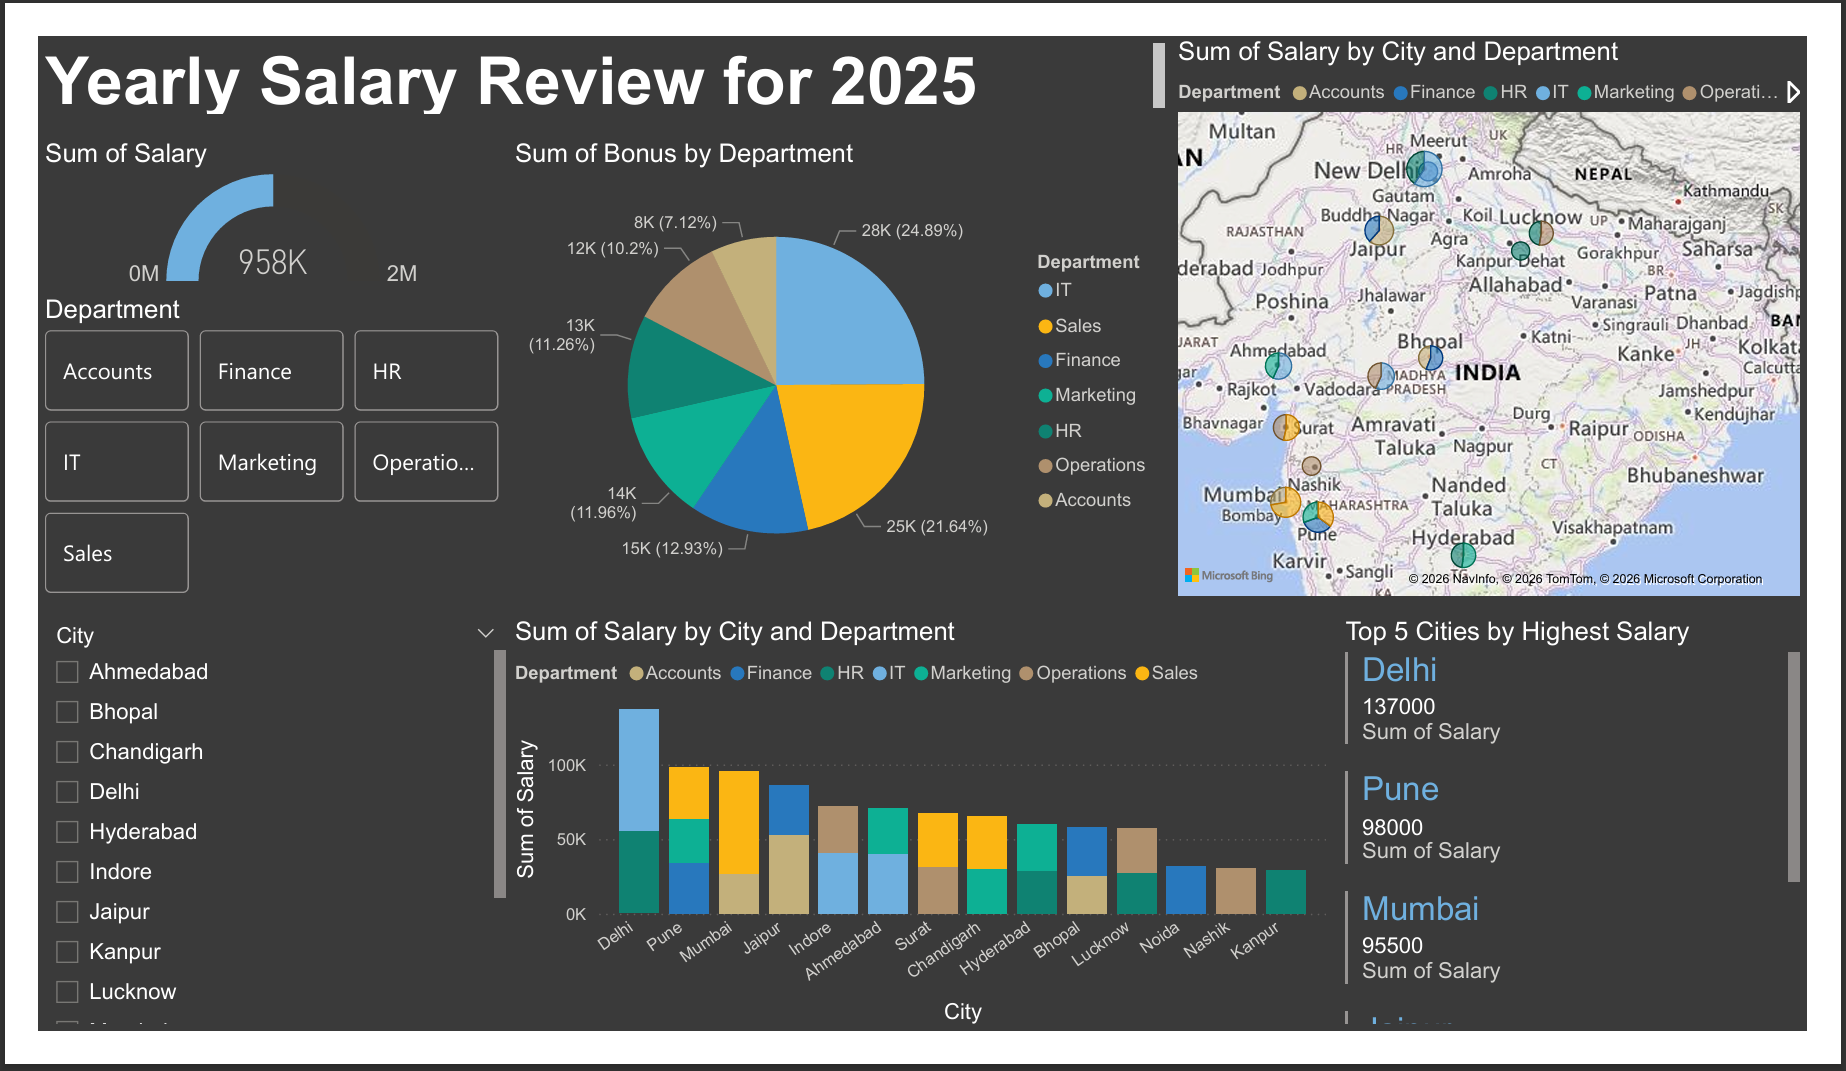

Layout of this report page (visuals, bound fields, positions):
{"tool":"powerbi","page":{"name":"Page 1","canvas":[1280,720],"ordinal":0},"visuals":[{"type":"gauge","fields":{"Y":["Sum(Pivot Table and DashBoard.Salary)"]},"box":[0,73.8,340,113.8],"z":0},{"type":"advancedSlicerVisual","fields":{"Values":["Pivot Table and DashBoard.Department"]},"box":[0,187.1,340,222.9],"z":1000},{"type":"map","fields":{"Category":["Pivot Table and DashBoard.City"],"Series":["Pivot Table and DashBoard.Department"],"Size":["Sum(Pivot Table and DashBoard.Salary)"]},"box":[820,0,460,410],"z":2000},{"type":"slicer","fields":{"Values":["Pivot Table and DashBoard.City"]},"box":[0,420,342.9,300],"z":3000},{"type":"pieChart","fields":{"Category":["Pivot Table and DashBoard.Department"],"Y":["Sum(Pivot Table and DashBoard.Bonus)"]},"box":[340.2,73.6,480.2,336.6],"z":4000},{"type":"columnChart","fields":{"Category":["Pivot Table and DashBoard.City"],"Y":["Sum(Pivot Table and DashBoard.Salary)"],"Series":["Pivot Table and DashBoard.Department"]},"box":[340,420,597.1,300],"z":5000},{"type":"multiRowCard","title":"Top 5 Cities by Highest Salary","fields":{"Values":["Pivot Table and DashBoard.City","Sum(Pivot Table and DashBoard.Salary)"]},"box":[940.5,419.9,339.8,299.7],"z":6000},{"type":"textbox","box":[0,0,820,61.4],"z":7000}]}

Visuals, with their boxes on the page's 1280x720 design canvas (x1, y1, x2, y2). These are canvas units, not pixel positions in the 1846x1071 screenshot, which may show the page scaled, cropped or inside an application window:
gauge - Sum(Pivot Table and DashBoard.Salary): <region>0, 74, 340, 188</region>
advancedSlicerVisual - Pivot Table and DashBoard.Department: <region>0, 187, 340, 410</region>
map - Pivot Table and DashBoard.City x Pivot Table and DashBoard.Department: <region>820, 0, 1280, 410</region>
slicer - Pivot Table and DashBoard.City: <region>0, 420, 343, 720</region>
pieChart - Pivot Table and DashBoard.Department x Sum(Pivot Table and DashBoard.Bonus): <region>340, 74, 820, 410</region>
columnChart - Pivot Table and DashBoard.City x Sum(Pivot Table and DashBoard.Salary): <region>340, 420, 937, 720</region>
"Top 5 Cities by Highest Salary" multiRowCard: <region>940, 420, 1280, 720</region>
textbox: <region>0, 0, 820, 61</region>
